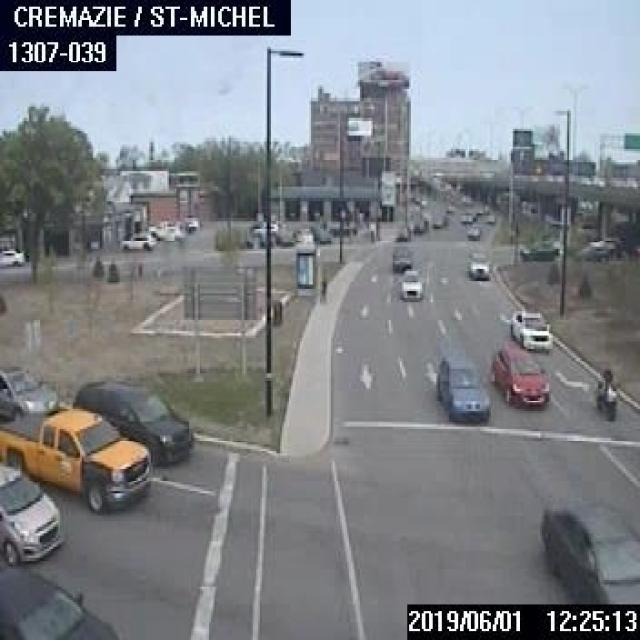vehicle: (0, 406, 151, 512), (538, 493, 638, 600), (71, 379, 193, 465), (0, 569, 116, 638), (0, 462, 60, 564), (431, 349, 489, 418), (487, 346, 549, 404), (0, 363, 58, 421), (509, 308, 552, 350), (594, 364, 616, 418), (573, 238, 618, 262), (396, 268, 422, 300), (518, 240, 556, 260), (147, 219, 184, 238), (120, 230, 154, 250), (390, 243, 410, 270), (467, 251, 488, 276), (474, 203, 495, 223), (0, 248, 22, 266), (408, 213, 426, 231), (250, 221, 276, 232), (431, 209, 445, 227), (394, 225, 409, 240), (465, 224, 480, 238), (459, 210, 472, 222)
